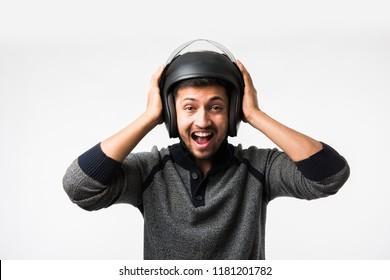helmet: (154, 34, 263, 177)
